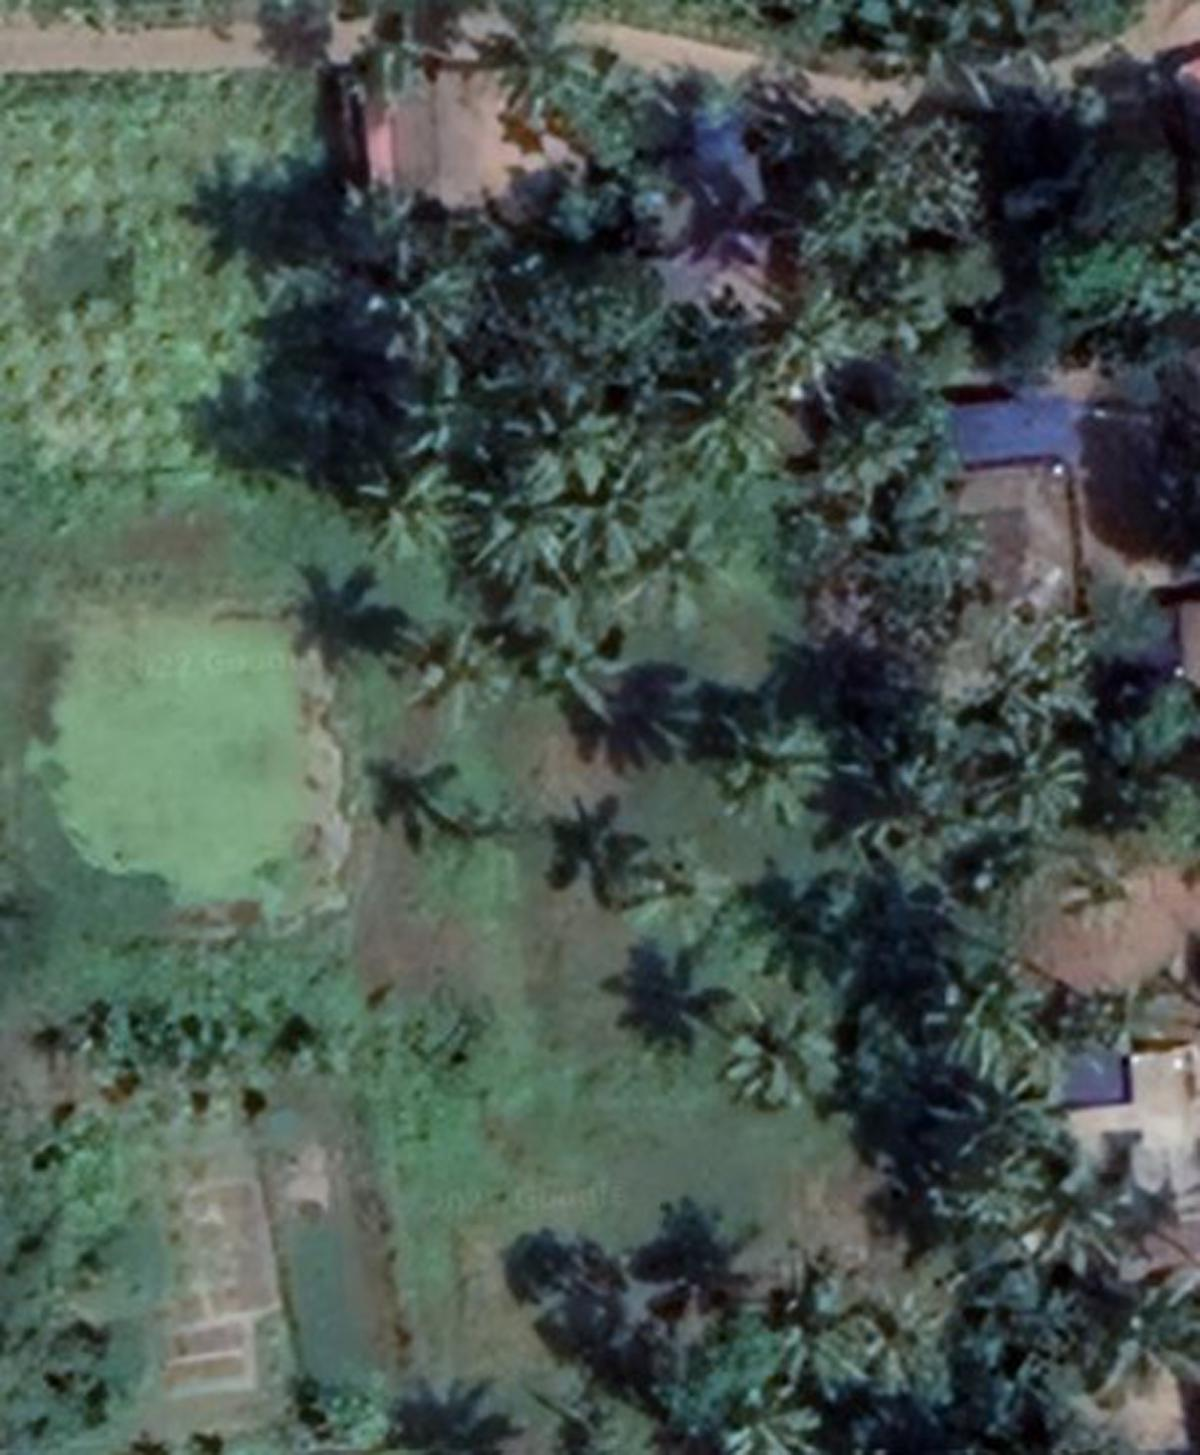coconut: (660, 365, 816, 504), (708, 714, 859, 848), (738, 1250, 873, 1401), (609, 493, 738, 622), (972, 715, 1097, 842), (748, 282, 877, 405), (724, 985, 840, 1121), (1018, 1154, 1135, 1273), (609, 831, 730, 944), (356, 434, 460, 550), (469, 464, 561, 593), (931, 961, 1040, 1065), (408, 620, 493, 732), (537, 620, 630, 721)
